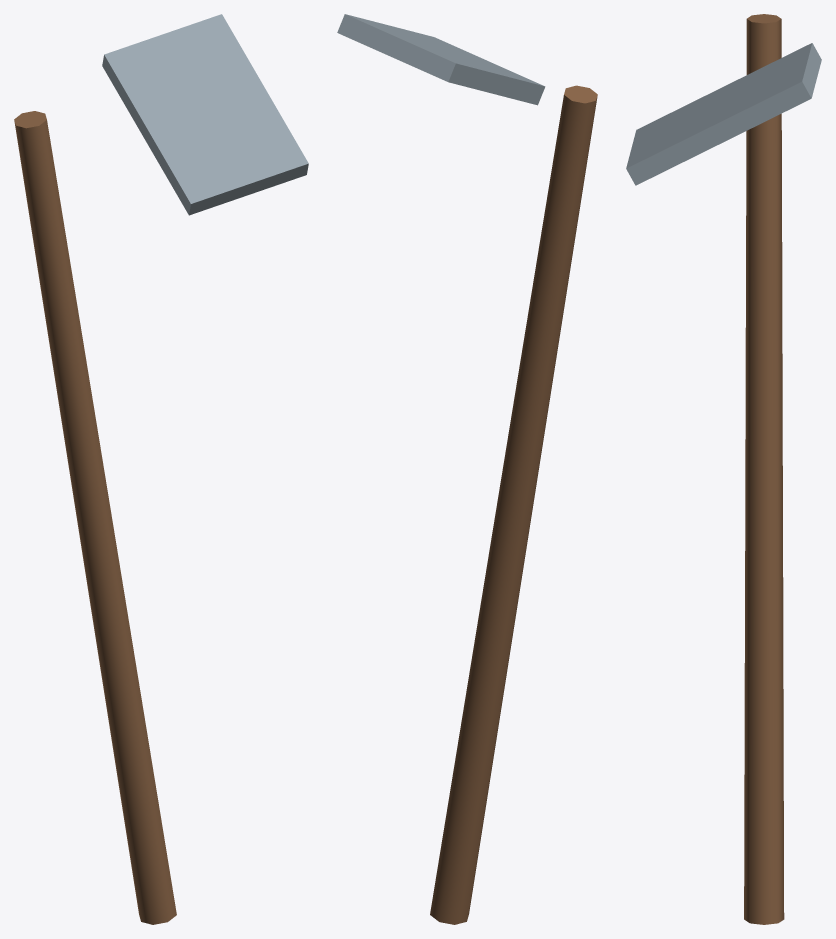
File: hoe.glb
3 views of the same model, side by side, from view 1: azimuth 30°, elevation 25°; view 2: azimuth 150°, elevation 25°; view 3: azimuth 270°, elevation 25° (orthographic). The views are drawn at different scales.
Visible parts, largest first — view 1: hoe; view 2: hoe; view 3: hoe.
Boxes of the visible parts, x1,y1,x2,y2 form: hoe: (14, 14, 308, 924); hoe: (337, 14, 597, 924); hoe: (626, 14, 821, 924).
Bounding box in the file's own units: 0.3983 × 1.45 × 0.2927.
